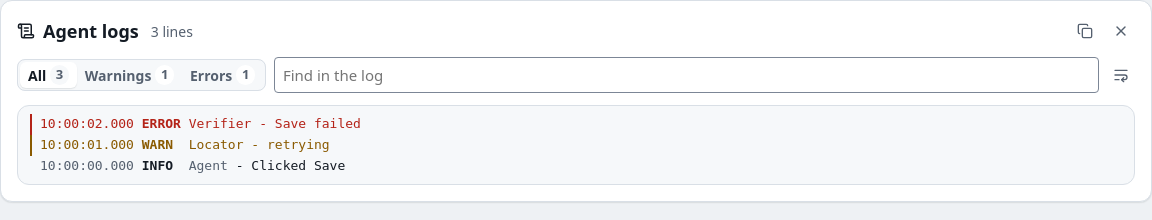
Test: LogTail filters › shows only the lines of the chosen level, with the counts per level
Click the radio button labelled "Errors 1": (222, 75) 190,65 -> 255,85
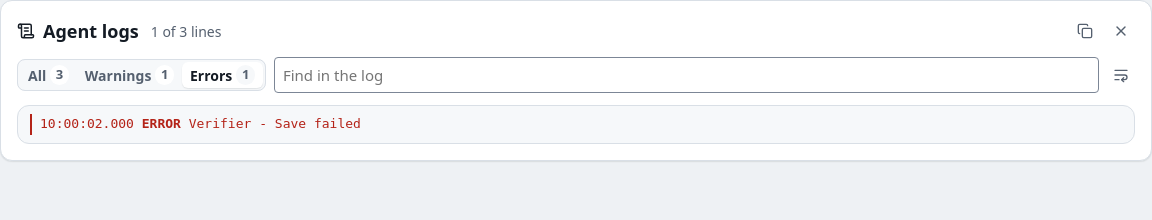
Expected: the radio button labelled "Warnings 1" is shown, 85,65 -> 174,85
Expected: the element named "Agent logs" reads "10:00:02.000 ERROR Verifier - Save failed", 17,105 -> 1135,144
Expected: the text "1 of 3 lines" is shown, 151,20 -> 222,42
